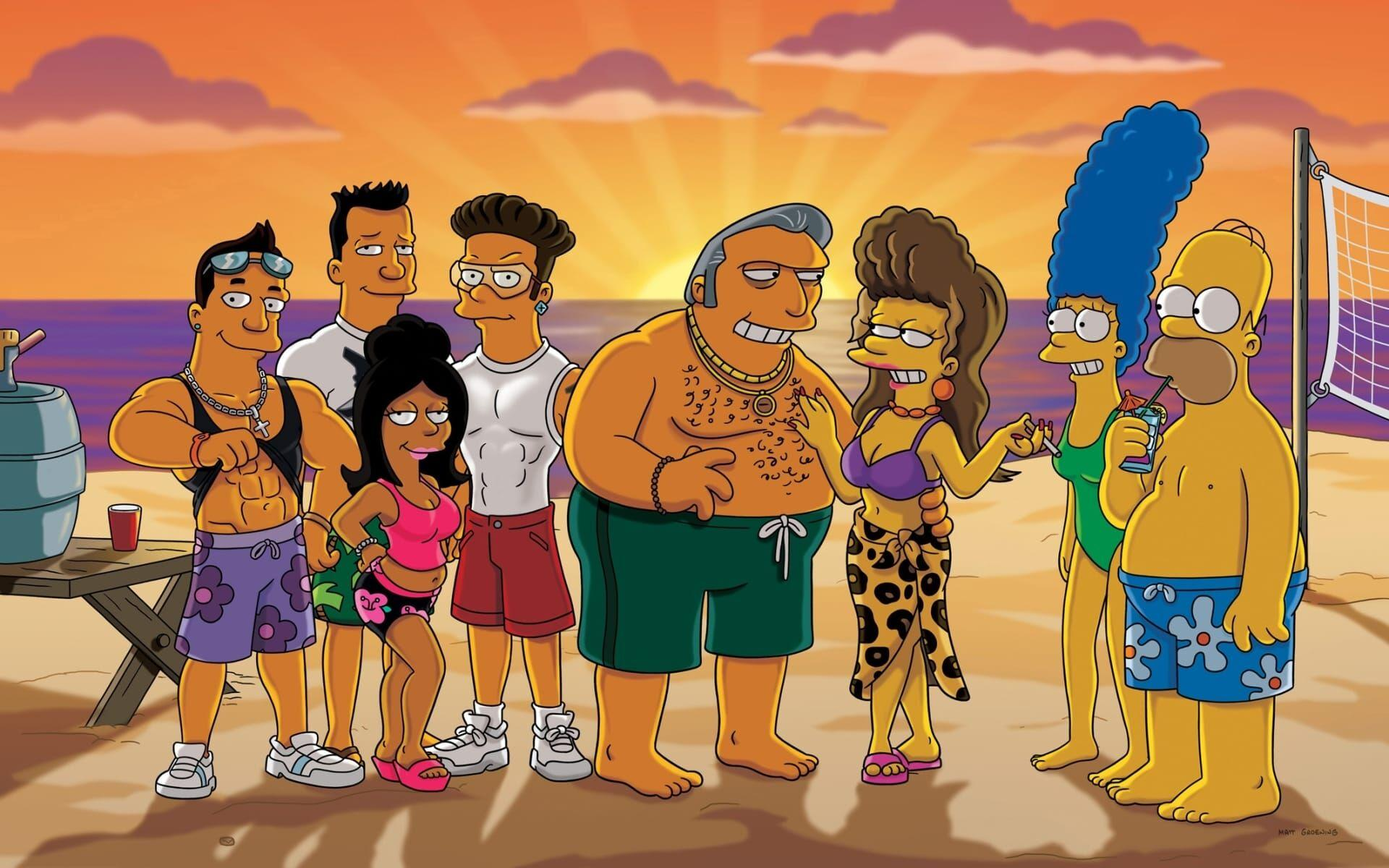Homer: (1098, 214, 1302, 847)
Marge: (1020, 93, 1211, 793)
